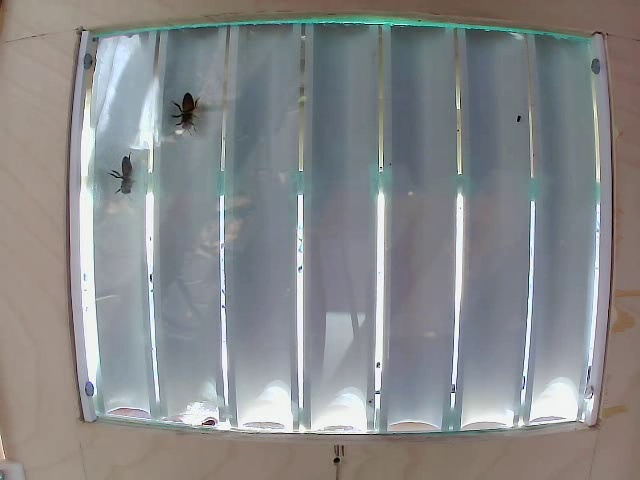bee: (108, 158, 147, 204), (162, 91, 201, 134)
